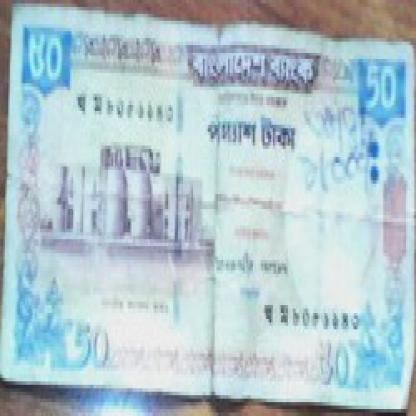Fifty taka: (27, 28, 68, 104), (306, 333, 355, 392)
